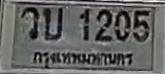0: (114, 10, 130, 40)
1: (79, 8, 89, 40)
2: (94, 8, 111, 40)
5: (132, 10, 148, 40)
A26: (41, 6, 62, 40)
A37: (21, 6, 38, 39)
BKK: (30, 49, 136, 71)
